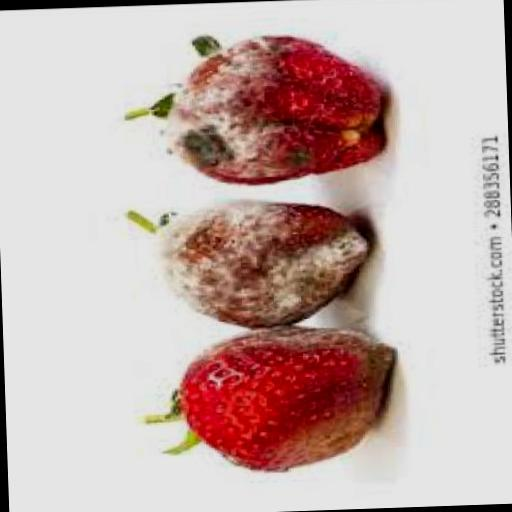biodegradable: (116, 32, 388, 188), (138, 322, 400, 478), (122, 196, 375, 334)
